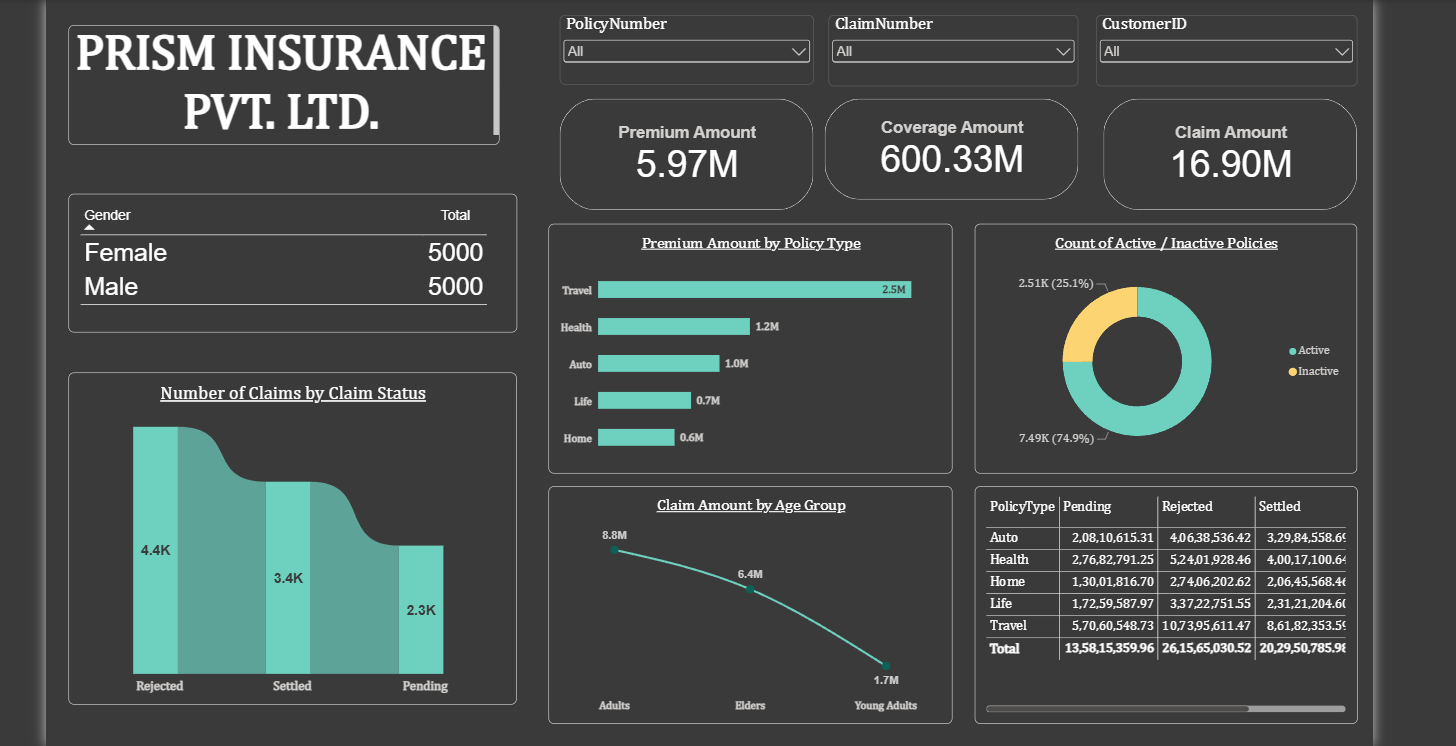

The dashboard page shown, as its layout file describes it:
{"tool":"powerbi","page":{"name":"Page 1","canvas":[1920,1080],"ordinal":0},"visuals":[{"type":"textbox","box":[32.6,36.2,624.3,173.7],"z":0},{"type":"cardVisual","fields":{"Data":["Sum(InsuranceData (1).PremiumAmount)"]},"box":[743.8,143,367.9,161.7],"z":1000},{"type":"slicer","fields":{"Values":["InsuranceData (1).PolicyNumber"]},"box":[743.9,22.2,367.9,101.1],"z":2000},{"type":"slicer","fields":{"Values":["InsuranceData (1).ClaimNumber"]},"box":[1132,22.2,361.8,103.1],"z":3000},{"type":"slicer","fields":{"Values":["InsuranceData (1).CustomerID"]},"box":[1520.2,22.2,378,103.1],"z":4000},{"type":"cardVisual","fields":{"Data":["Sum(InsuranceData (1).CoverageAmount)"]},"box":[1127.4,143,367.4,146.6],"z":5000},{"type":"cardVisual","fields":{"Data":["Sum(InsuranceData (1).ClaimAmount)"]},"box":[1531,143,367.9,161.7],"z":6000},{"type":"tableEx","fields":{"Values":["InsuranceData (1).Gender1","CountNonNull(InsuranceData (1).Gender)"]},"box":[32.6,280.5,649.7,200.9],"z":7000},{"type":"ribbonChart","title":"Number of Claims by Claim Status","fields":{"Category":["InsuranceData (1).ClaimStatus"],"Y":["CountNonNull(InsuranceData (1).ClaimStatus)"]},"box":[32.3,539.7,648.9,481.1],"z":8000},{"type":"barChart","title":"Premium Amount by Policy Type","fields":{"Category":["InsuranceData (1).PolicyType"],"Y":["Sum(InsuranceData (1).PremiumAmount)"]},"box":[727.5,323.9,584.5,361.9],"z":9000},{"type":"lineChart","title":"Claim Amount by Age Group","fields":{"Category":["InsuranceData (1).Age Group"],"Y":["Sum(InsuranceData (1).ClaimAmount)"]},"box":[727.5,704,584.5,343.8],"z":10000},{"type":"donutChart","title":"Count of Active / Inactive Policies","fields":{"Category":["InsuranceData (1).Active/Inactive"],"Y":["CountNonNull(InsuranceData (1).Active/Inactive)"]},"box":[1344.6,323.9,553.8,361.9],"z":11000},{"type":"pivotTable","fields":{"Columns":["InsuranceData (1).ClaimStatus"],"Rows":["InsuranceData (1).PolicyType"],"Values":["Sum(InsuranceData (1).CoverageAmount)"]},"box":[1345,704,554,344],"z":11001}]}

Visuals, with their boxes on the page's 1920x1080 design canvas (x1, y1, x2, y2). These are canvas units, not pixel positions in the 1456x746 screenshot, which may show the page scaled, cropped or inside an application window:
textbox: [33, 36, 657, 210]
cardVisual - Sum(InsuranceData (1).PremiumAmount): [744, 143, 1112, 305]
slicer - InsuranceData (1).PolicyNumber: [744, 22, 1112, 123]
slicer - InsuranceData (1).ClaimNumber: [1132, 22, 1494, 125]
slicer - InsuranceData (1).CustomerID: [1520, 22, 1898, 125]
cardVisual - Sum(InsuranceData (1).CoverageAmount): [1127, 143, 1495, 290]
cardVisual - Sum(InsuranceData (1).ClaimAmount): [1531, 143, 1899, 305]
tableEx - InsuranceData (1).Gender1 x CountNonNull(InsuranceData (1).Gender): [33, 280, 682, 481]
"Number of Claims by Claim Status" ribbonChart: [32, 540, 681, 1021]
"Premium Amount by Policy Type" barChart: [728, 324, 1312, 686]
"Claim Amount by Age Group" lineChart: [728, 704, 1312, 1048]
"Count of Active / Inactive Policies" donutChart: [1345, 324, 1898, 686]
pivotTable - InsuranceData (1).ClaimStatus x InsuranceData (1).PolicyType: [1345, 704, 1899, 1048]
